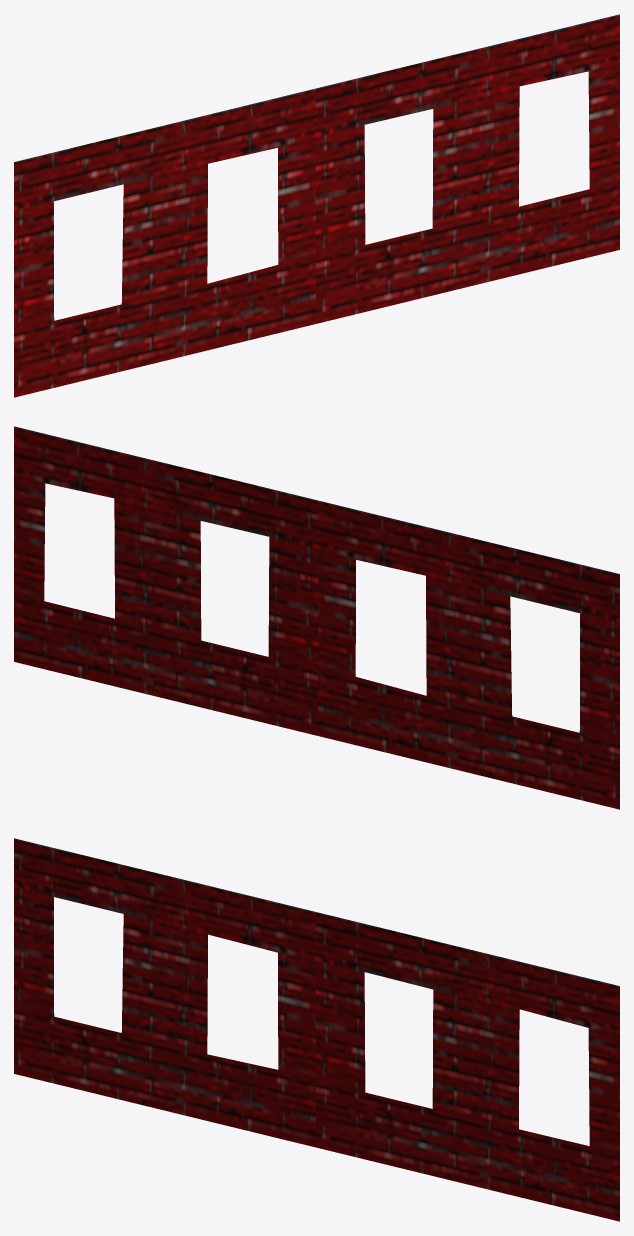
File: W_AI1_ffff [Ziegel]_1767.glb
3 views of the same model, one above another, from view 1: azimuth 30°, elevation 25°; view 2: azimuth 150°, elevation 25°; view 3: azimuth 330°, elevation 25° (orthographic).
Visible parts, largest first — view 1: polySurfaceShape786; view 2: polySurfaceShape786; view 3: polySurfaceShape786.
Boxes of the visible parts, <box> form: polySurfaceShape786: <box>14,14,619,397</box>; polySurfaceShape786: <box>14,426,619,809</box>; polySurfaceShape786: <box>14,838,619,1221</box>.
Bounding box in the file's own units: 0.9385 × 0.3486 × 1.31e-07.
1 material, 1 textured.
